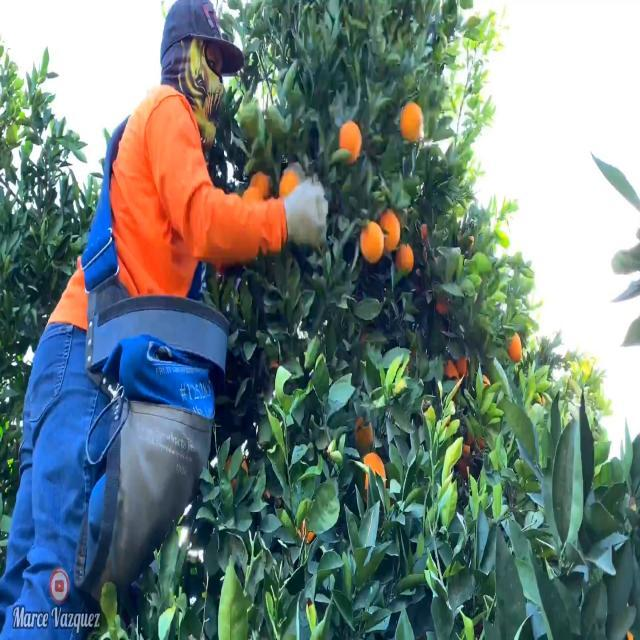Jeruk Sudah Matang: (358, 446, 389, 499), (398, 100, 425, 148), (358, 217, 384, 266), (336, 118, 362, 163), (377, 204, 402, 248), (392, 240, 414, 280), (506, 326, 524, 366)
